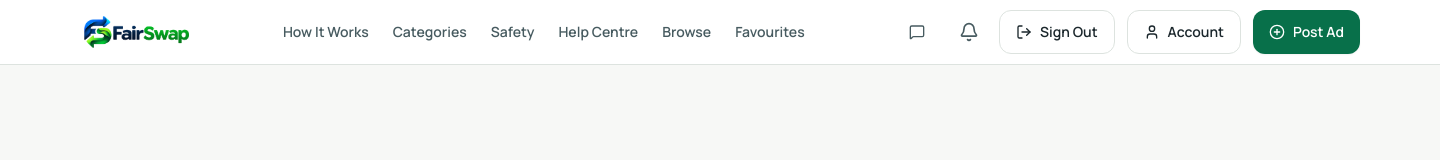
Header component › reports a failed sign-out and leaves the action available for retry
The width and height of the screenshot is (1440, 160).
What coordinates should you click on to do the following:
click the button "Sign Out"
I would click on:
 (1057, 32)
Its box is [999,10,1114,54].
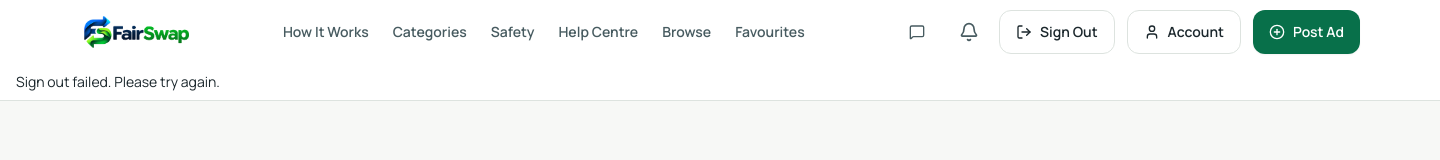
Now the message shows "Sign out failed", box [16,72,220,91]
